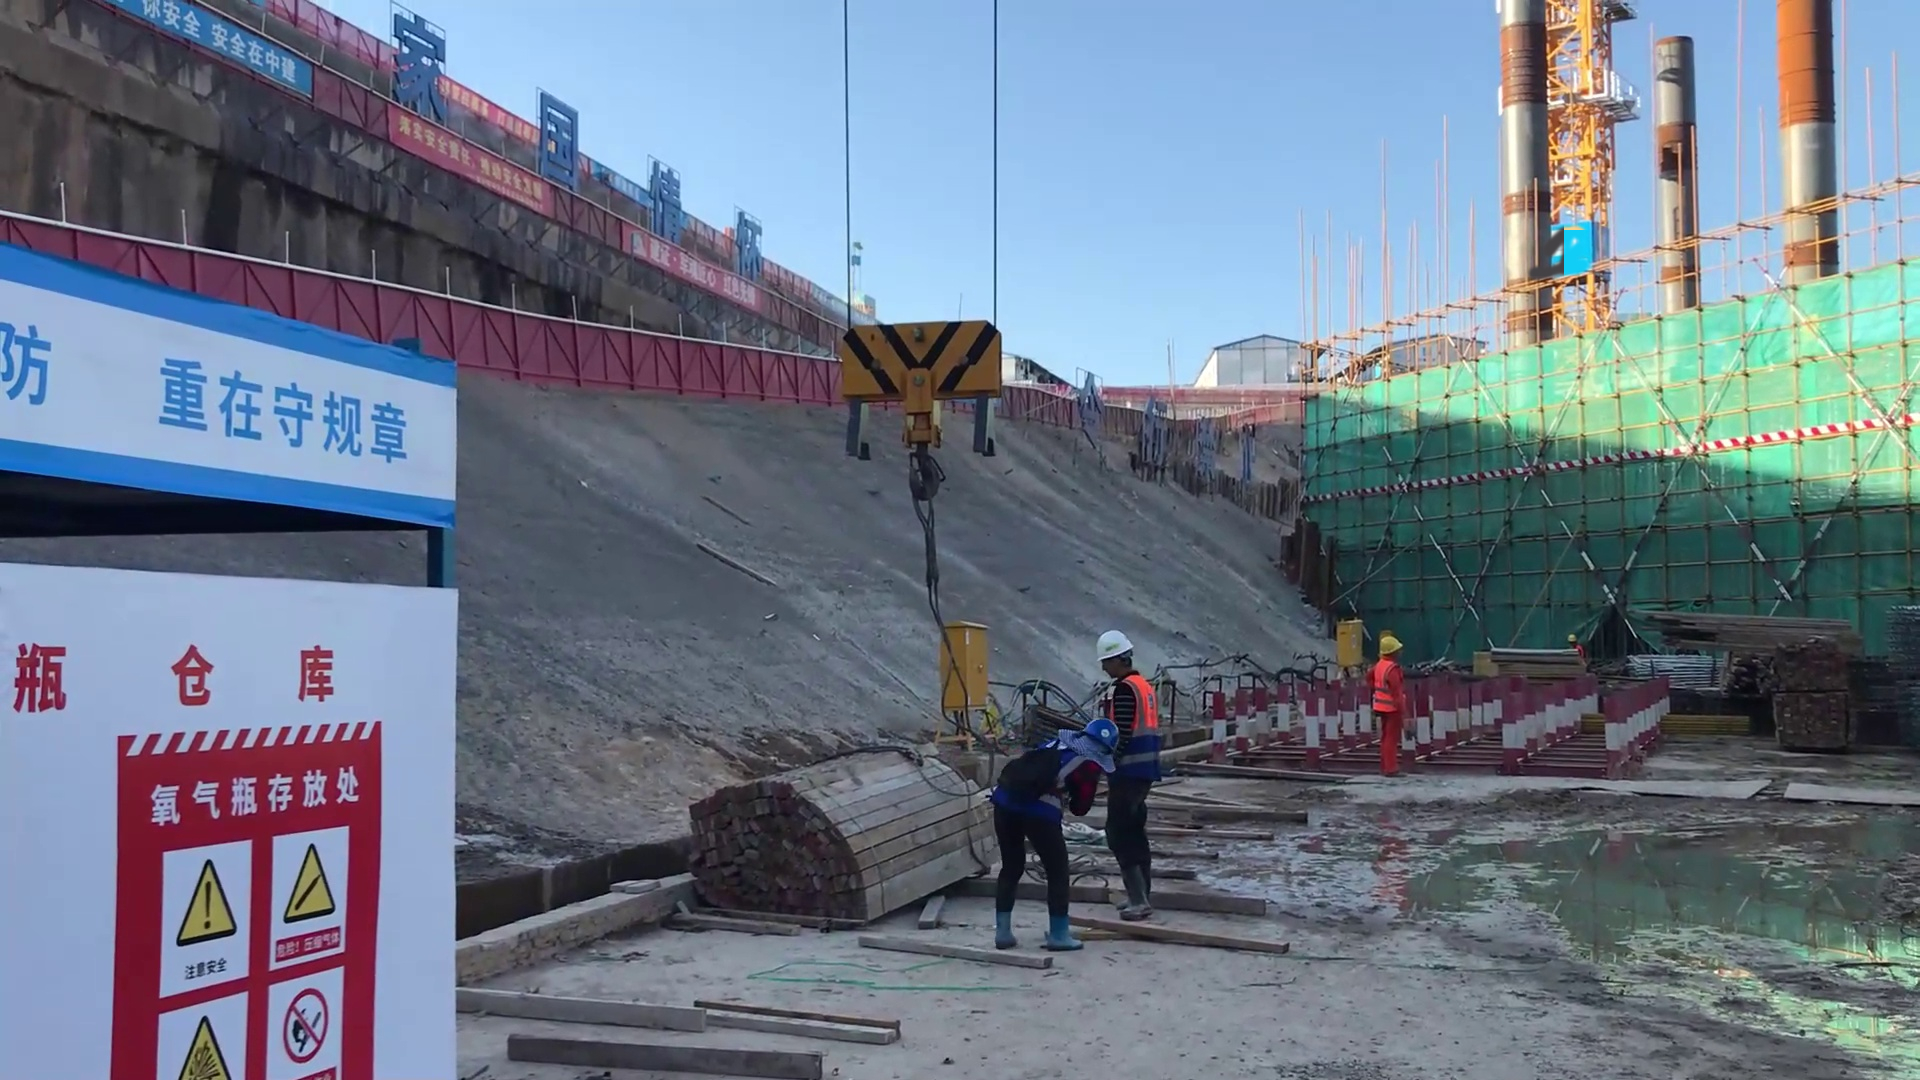ebox: (928, 618, 999, 726)
fence: (451, 300, 818, 408)
helmet: (1054, 701, 1127, 768), (1076, 616, 1134, 674), (1375, 628, 1404, 655)
hook: (818, 309, 1015, 482)
person: (985, 701, 1106, 964), (1094, 630, 1171, 933), (1371, 628, 1414, 780)
slogan: (132, 748, 380, 1080), (140, 309, 430, 535), (364, 112, 582, 279), (98, 1, 304, 119)
vest: (1111, 677, 1167, 770), (1371, 656, 1407, 710)
wood: (680, 755, 977, 927), (1630, 587, 1869, 674)
